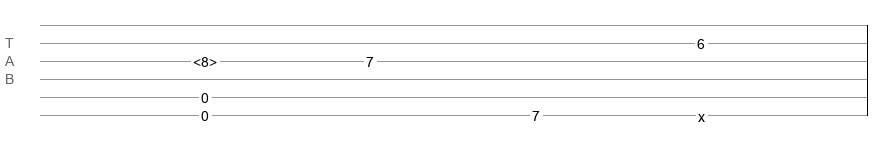0: (201, 90, 209, 100), (201, 108, 209, 118)
6: (697, 36, 705, 46)
7: (366, 54, 374, 64), (532, 108, 540, 118)
harmonic: (193, 54, 217, 64)
x: (698, 109, 705, 117)
